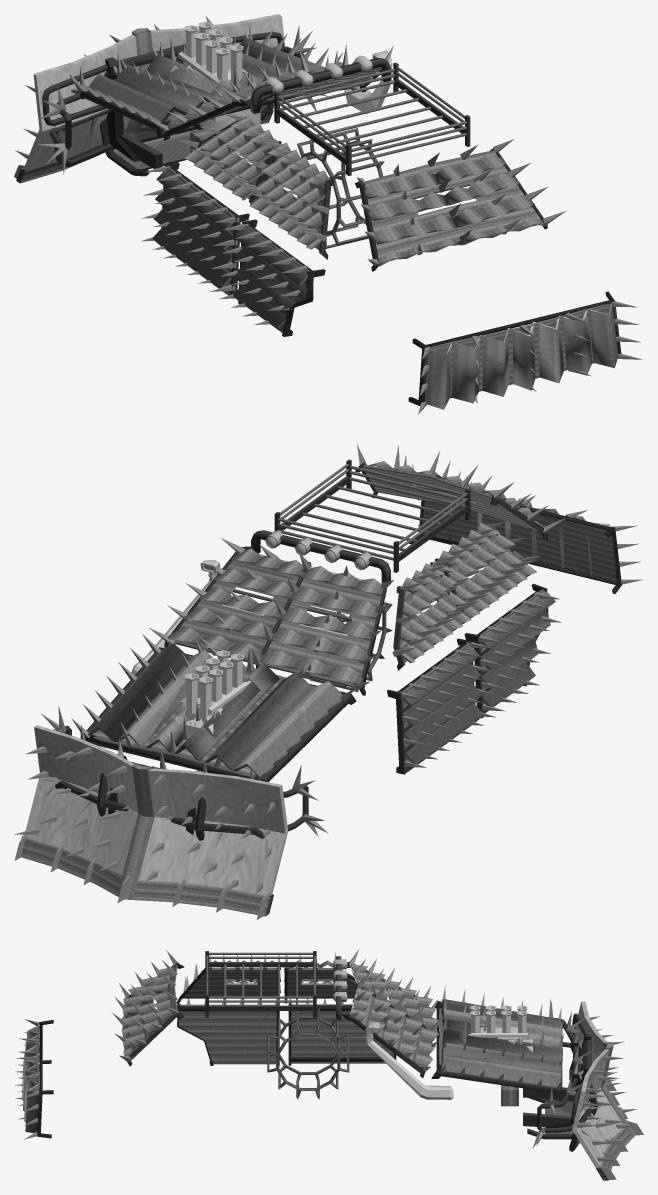
Rendered from CarModern2Armor.fbx.
3 renders of one model, top to bottom at view 1: azimuth 30°, elevation 25°; view 2: azimuth 150°, elevation 25°; view 3: azimuth 270°, elevation 25°, orthographic. The views are drawn at different scales.
Parts seen in each view (by area): view 1: trunkreinforcedrear, plow, windowreinforcedrear, roofrack, hoodreinforcedfront, doorfrontreinforcedleft, windowheavyrear, hoodreinforcedfrontscoop, doorrearreinforcedleft, windowrearreinforcedleft, windowfrontreinforcedleft, airscooppiped (+24 smaller); view 2: plow, hoodreinforcedfront, plow_spiked, windowreinforcedfront, hoodreinforcedfrontscoop, windowheavyfront, roofrack, trunkheavyrear, doorfrontreinforcedleft, trunkheavyspikedrear, doorrearreinforcedleft, windowrearreinforcedleft (+23 smaller); view 3: hoodreinforcedfront, doorrearheavyleft, plow, windowreinforcedfront, hoodreinforcedfrontscoop, roofrack, doorfrontheavyleft, windowreinforcedrear, plow_spiked, chaintires, doorfrontheavyspikedleft, windowrearheavyleft (+19 smaller).
Boxes of the visible parts, box(x1,y1,x2,y2) form: trunkreinforcedrear: box(424, 300, 618, 409); plow: box(14, 14, 284, 183); windowreinforcedrear: box(365, 153, 546, 266); roofrack: box(274, 62, 470, 175); hoodreinforcedfront: box(87, 38, 324, 129); doorfrontreinforcedleft: box(152, 166, 238, 295); windowheavyrear: box(355, 148, 547, 271); hoodreinforcedfrontscoop: box(88, 38, 298, 123); doorrearreinforcedleft: box(232, 224, 312, 332); windowrearreinforcedleft: box(250, 142, 328, 249); windowfrontreinforcedleft: box(184, 116, 278, 200); airscooppiped: box(169, 21, 260, 134); plow: box(14, 725, 288, 919); hoodreinforcedfront: box(85, 643, 349, 780); plow_spiked: box(14, 728, 284, 894); windowreinforcedfront: box(167, 548, 382, 684); hoodreinforcedfrontscoop: box(85, 643, 349, 780); windowheavyfront: box(171, 546, 388, 695); roofrack: box(274, 459, 470, 572); trunkheavyrear: box(409, 500, 621, 593); doorfrontreinforcedleft: box(398, 643, 484, 772); trunkheavyspikedrear: box(418, 495, 643, 584); doorrearreinforcedleft: box(477, 589, 555, 712); windowrearreinforcedleft: box(439, 523, 536, 618); hoodreinforcedfront: box(436, 999, 562, 1090); doorrearheavyleft: box(177, 1003, 279, 1065); plow: box(546, 1001, 643, 1180); windowreinforcedfront: box(351, 964, 438, 1068); hoodreinforcedfrontscoop: box(443, 999, 561, 1085); roofrack: box(205, 951, 316, 1017); doorfrontheavyleft: box(288, 1003, 396, 1065); windowreinforcedrear: box(121, 967, 172, 1060); plow_spiked: box(577, 1016, 636, 1165); chaintires: box(267, 1008, 349, 1099); doorfrontheavyspikedleft: box(289, 998, 393, 1063); windowrearheavyleft: box(176, 968, 277, 1003).
Bounding box in the file's own units: 278 × 203 × 703.
